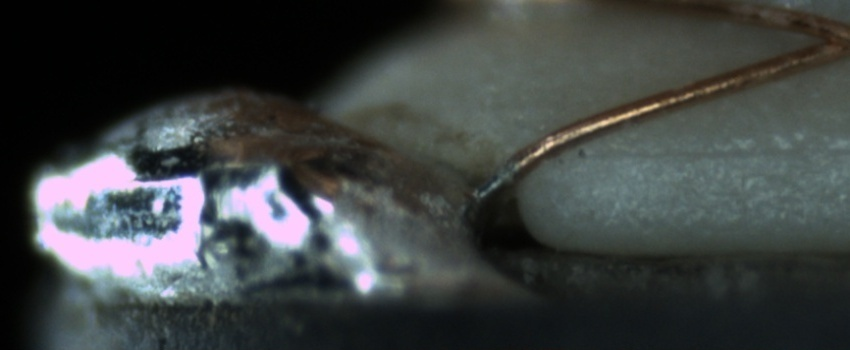CL: (779, 6, 849, 68)
DL: (572, 122, 845, 182)
TS: (472, 158, 519, 199)
TTCW: (474, 145, 536, 200)
